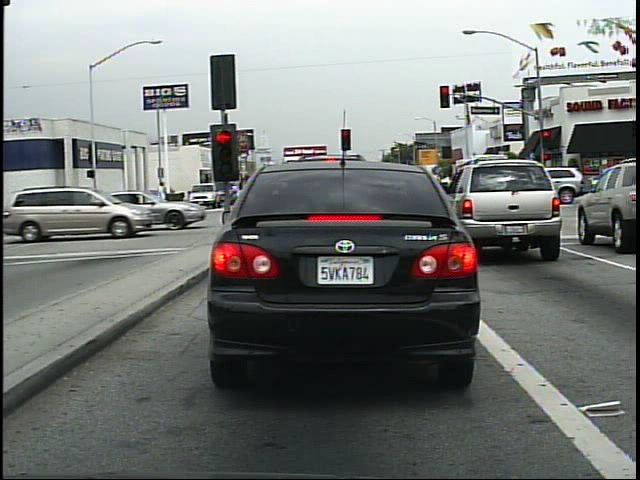person: (155, 179, 172, 203)
